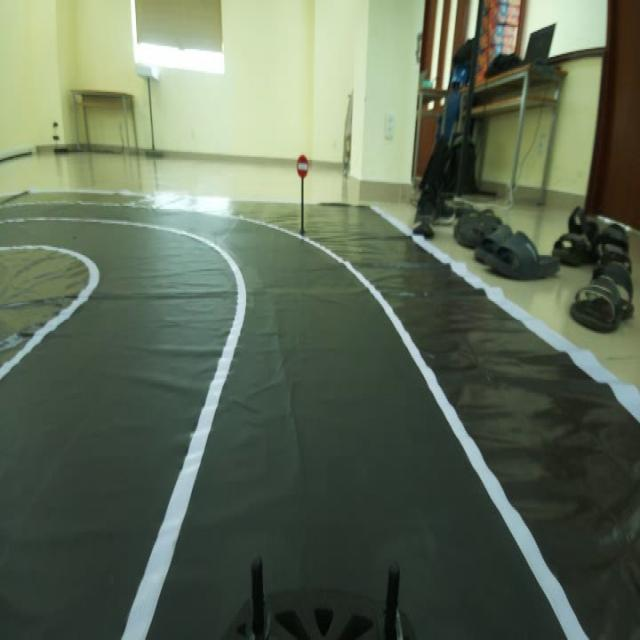no_entry: (294, 144, 312, 186)
